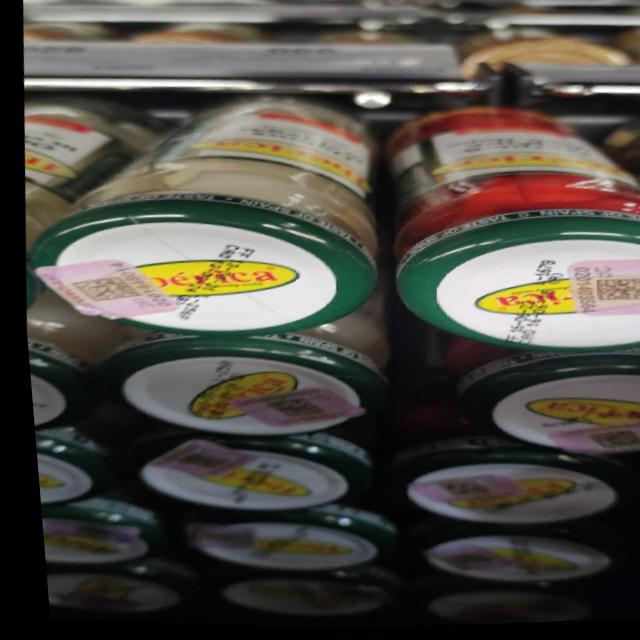datamatrix: (64, 272, 140, 308), (583, 277, 640, 309)
